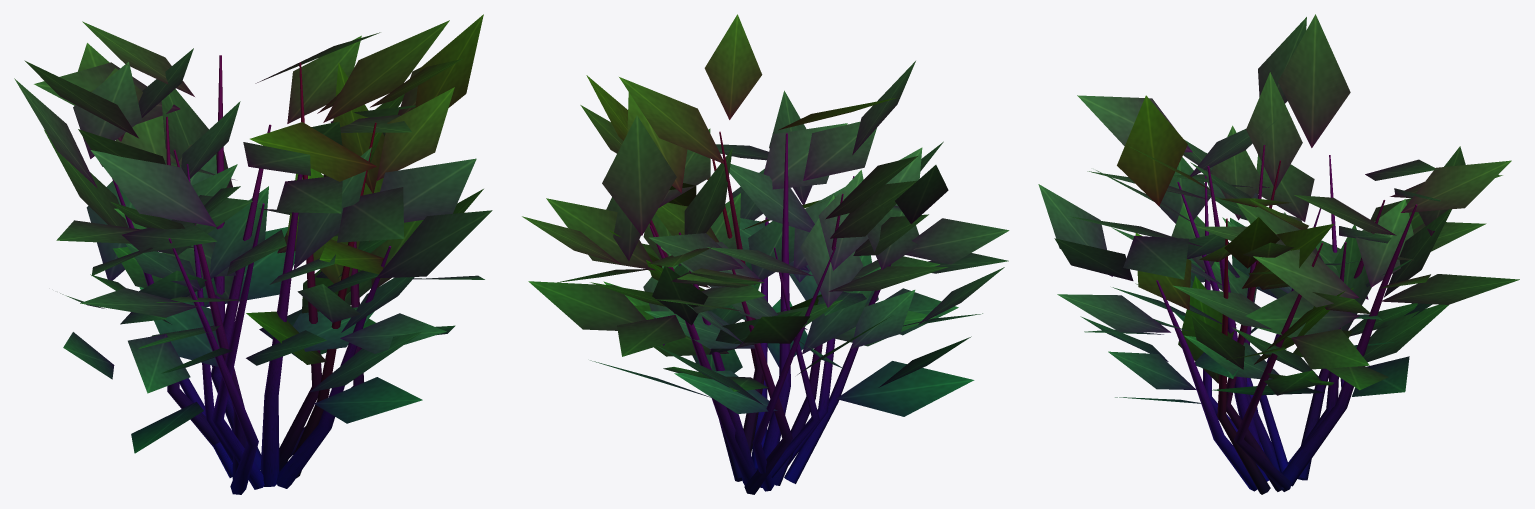
The model's file is laurel_lod2.glb.
3 renders of one model, left to right at view 1: azimuth 30°, elevation 25°; view 2: azimuth 150°, elevation 25°; view 3: azimuth 270°, elevation 25°, orthographic. The views are drawn at different scales.
Parts seen in each view (by area): view 1: laurel_lod2; view 2: laurel_lod2; view 3: laurel_lod2.
Part boxes in pixels (bbox=[...]): laurel_lod2: bbox=[14, 14, 492, 494]; laurel_lod2: bbox=[522, 14, 1009, 494]; laurel_lod2: bbox=[1038, 14, 1519, 494].
Bounding box in the file's own units: 2.07 × 1.95 × 2.2.
Materials: 2 (2 with a texture image).
